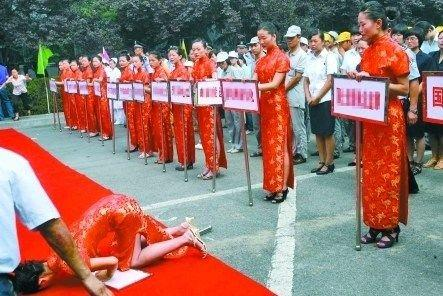10+: (1, 1, 442, 296)
down: (8, 189, 215, 296)
